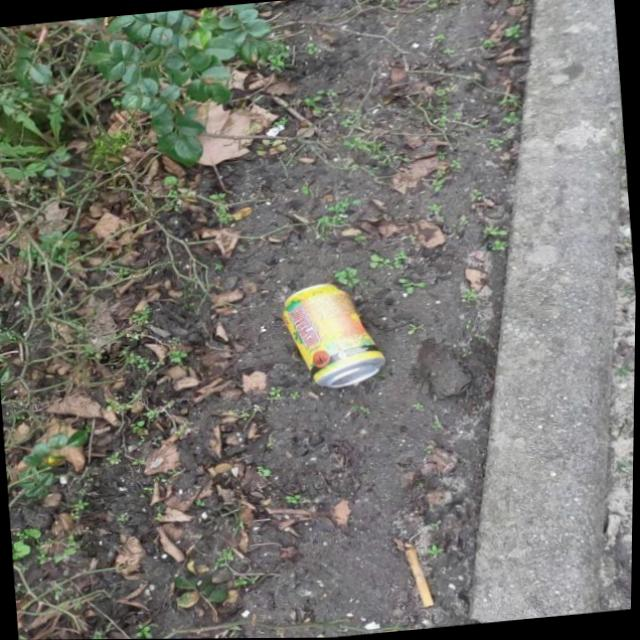Can-Metal: (275, 275, 392, 395)
